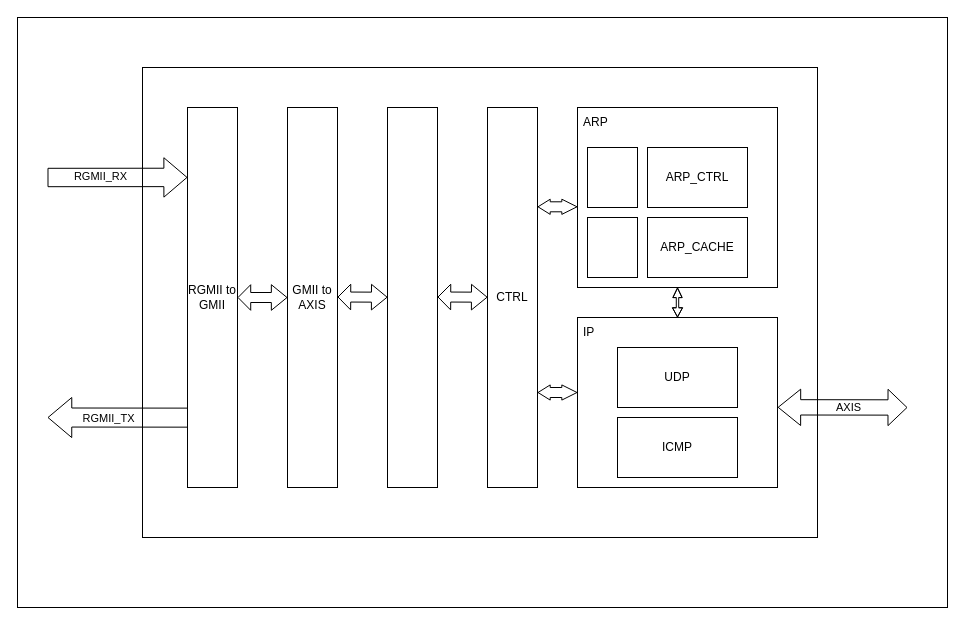
Some shapes in this 965 by 625 pixel diagram are drawn without their labels. The shapes that lost their labels are listed below. From the top down, each one's centre as x and y in pixels, then its label:
At point (612, 177): "ARP_RX".
At point (612, 247): "ARP_TX".
At point (412, 297): "MAC".
